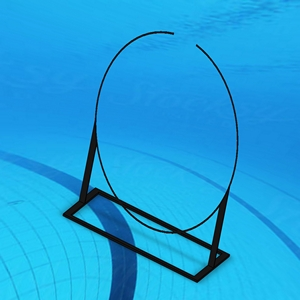circle: (59, 14, 241, 286)
